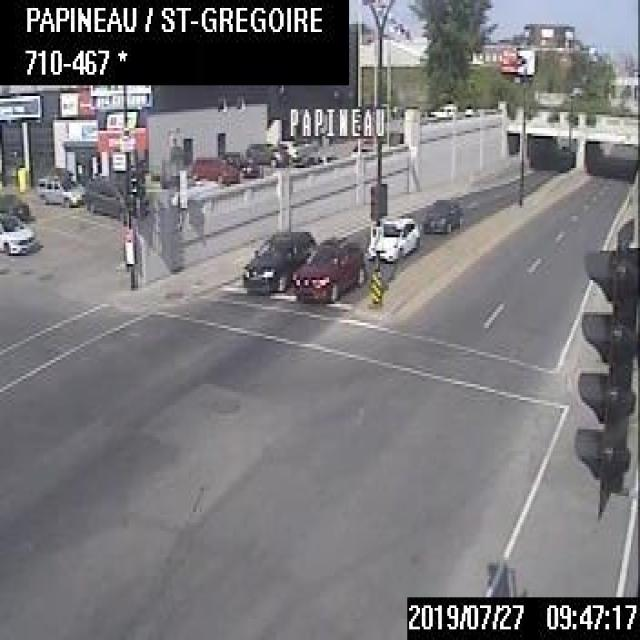vehicle: (290, 233, 365, 300), (241, 229, 315, 296), (367, 213, 419, 260), (85, 175, 139, 218), (0, 213, 40, 259), (36, 170, 84, 205), (421, 194, 462, 233), (191, 154, 236, 183), (0, 190, 33, 222), (226, 150, 262, 179), (248, 142, 286, 166), (292, 141, 322, 163), (280, 138, 298, 158)
